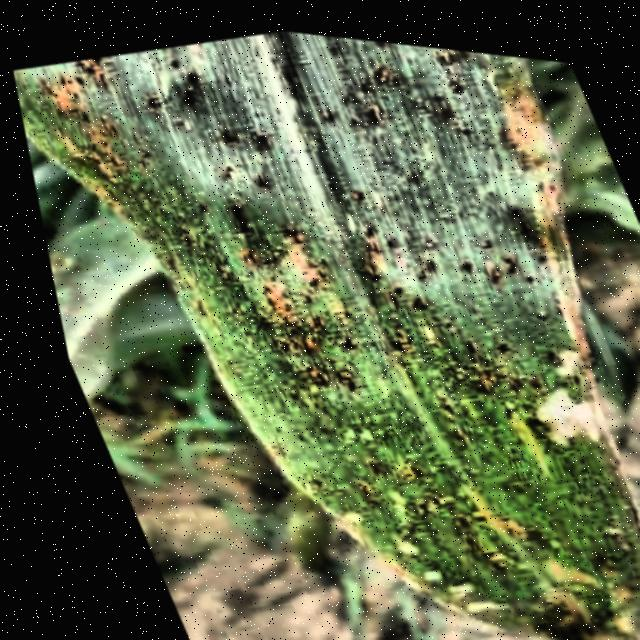common_rust: (16, 36, 640, 640)
